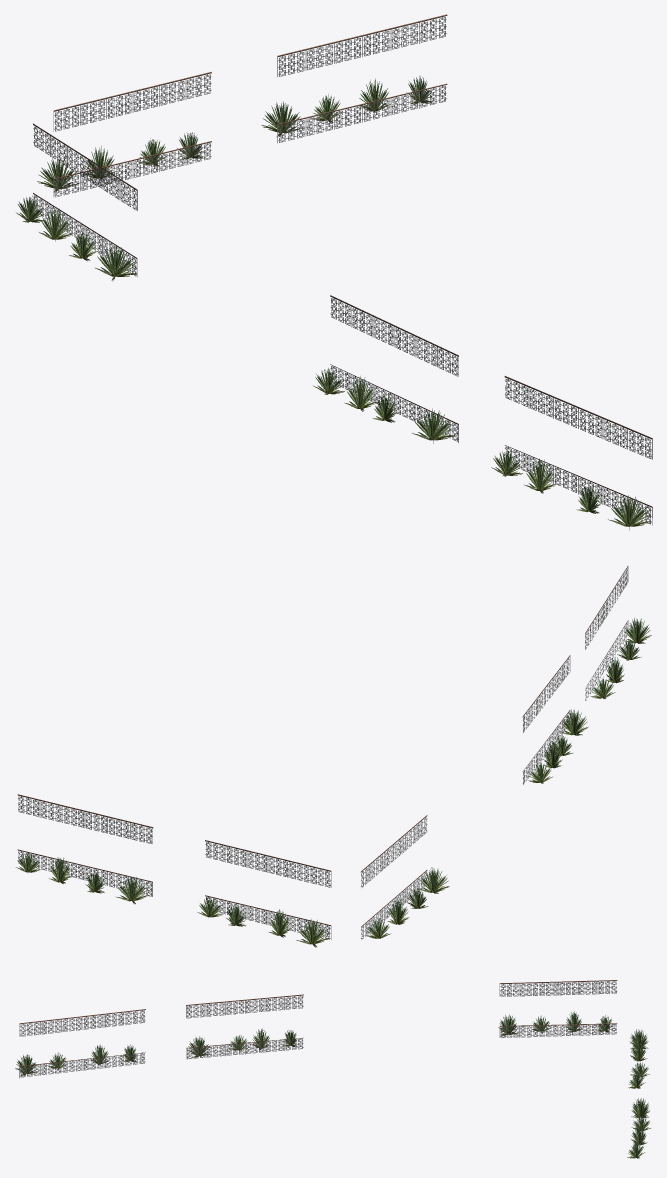
Rendered from wefargoalphas_lan.obj.
The picture shows the model from 3 angles, top to bottom: view 1: azimuth 30°, elevation 25°; view 2: azimuth 150°, elevation 25°; view 3: azimuth 270°, elevation 25°; orthographic projection. The views are drawn at different scales.
Visible parts, largest first — view 1: wefargoalphas_LAn; view 2: wefargoalphas_LAn; view 3: wefargoalphas_LAn.
Part boxes in pixels (box(x1,y1,x2,y2)): wefargoalphas_LAn: box(16, 14, 652, 530); wefargoalphas_LAn: box(15, 565, 651, 947); wefargoalphas_LAn: box(15, 980, 651, 1158).
Bounding box in the file's own units: 22.83 × 4.32 × 44.95.
